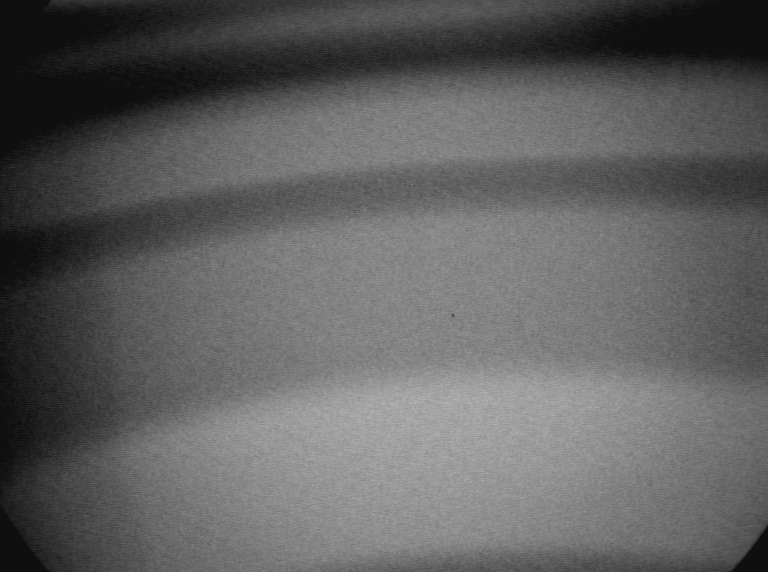defect: (3, 69, 148, 565)
